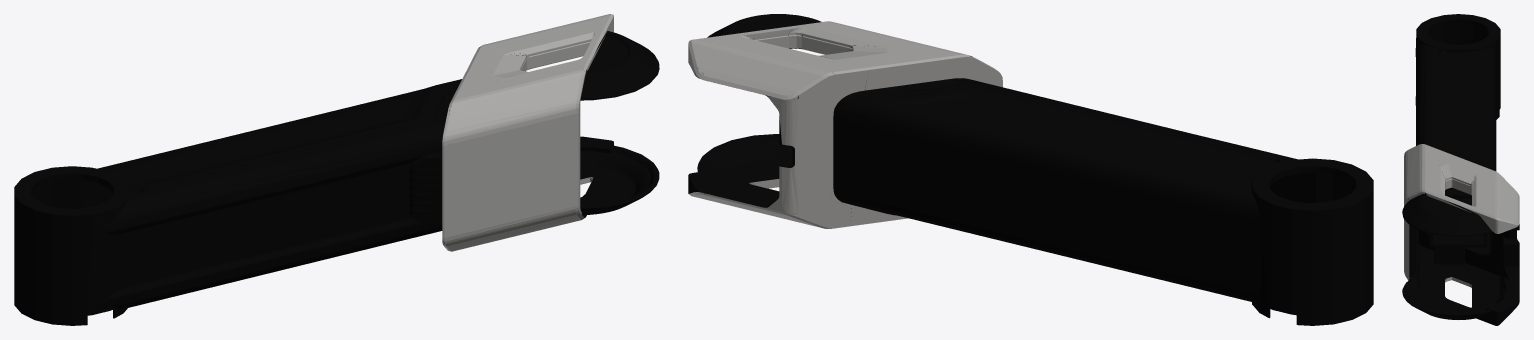
File: right_arm_link2.obj
The picture shows the model from 3 angles, left to right: view 1: azimuth 30°, elevation 25°; view 2: azimuth 150°, elevation 25°; view 3: azimuth 270°, elevation 25°; orthographic projection. The views are drawn at different scales.
Visible parts, largest first — view 1: right_arm_link2; view 2: right_arm_link2; view 3: right_arm_link2.
Part boxes in pixels (box(x1,y1,x2,y2)): right_arm_link2: box(14, 14, 659, 325); right_arm_link2: box(688, 14, 1373, 325); right_arm_link2: box(1402, 14, 1519, 325).
Size of the model in its own units: 0.3695 by 0.084 by 0.0824.
